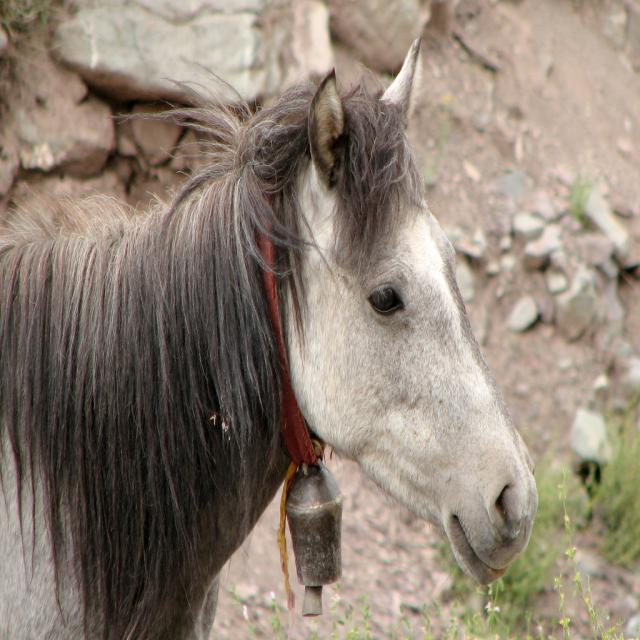Horse: (0, 31, 541, 640)
